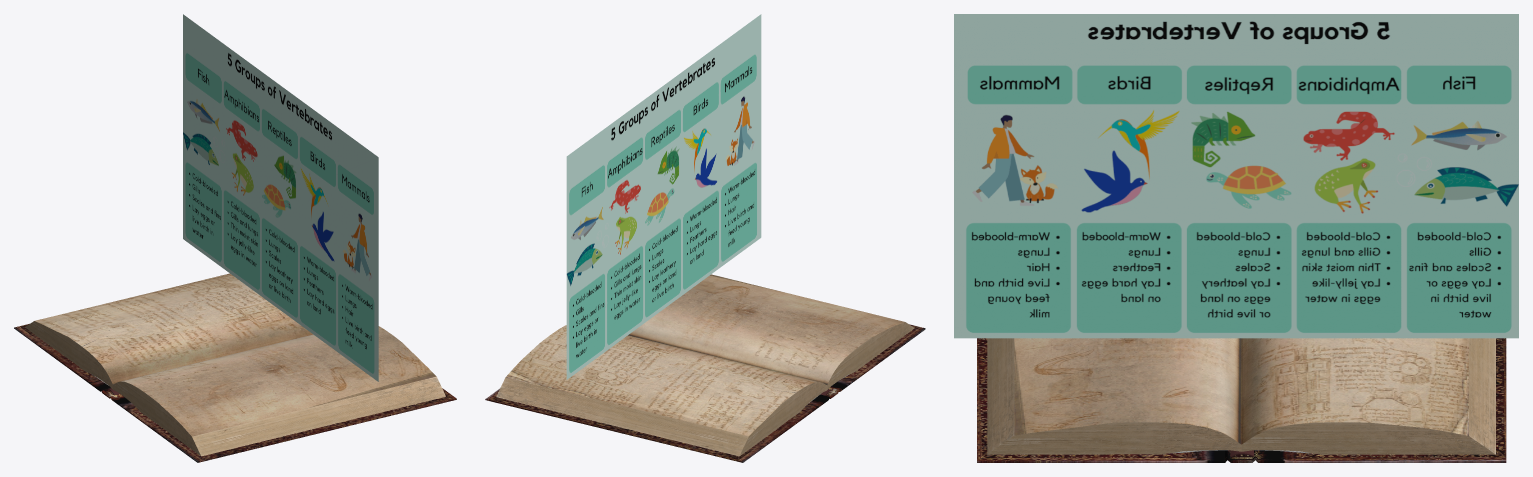
File: vertebrate.glb
3 renders of one model, left to right at view 1: azimuth 30°, elevation 25°; view 2: azimuth 150°, elevation 25°; view 3: azimuth 270°, elevation 25°, orthographic. The views are drawn at different scales.
Visible parts, largest first — view 1: vertebrate_content, polySurface23, polySurface21; view 2: vertebrate_content, polySurface23, polySurface21; view 3: vertebrate_content, polySurface23, polySurface21.
Part boxes in pixels (x1,y1,x2,y2): vertebrate_content: (183, 14, 378, 381); polySurface23: (25, 273, 445, 456); polySurface21: (14, 324, 456, 462); vertebrate_content: (566, 14, 761, 379); polySurface23: (496, 274, 914, 456); polySurface21: (485, 324, 925, 462); vertebrate_content: (954, 14, 1518, 338); polySurface23: (987, 338, 1495, 454); polySurface21: (977, 338, 1506, 462).
Size of the model in its own units: 2.79 by 2.77 by 3.65.
Materials: 6 (4 with a texture image).
